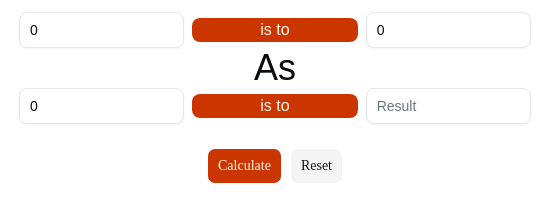
Test: RuleOfThree › onFormSubmit success › returns proportional result for a=1.5 b=3 c=10
Replace the text in the 1st field with placeholder "Value A" with "1.5": (102, 30) 19,12 -> 184,48
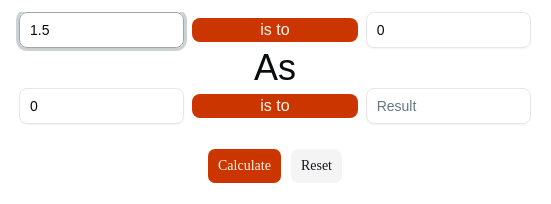
Replace the text in the 2nd field with placeholder "Value B" with "3": (448, 30) 366,12 -> 531,48
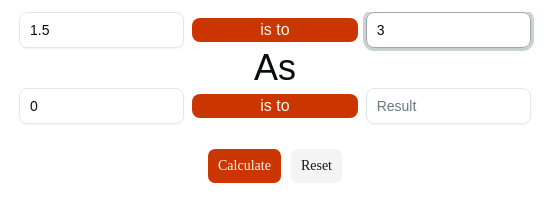
Replace the text in the 3rd field with placeholder "Value C" with "10": (102, 106) 19,88 -> 184,124
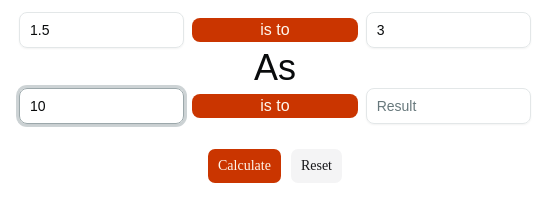
Click the button with aria-label "calculate rule of three": (244, 166) 207,148 -> 282,184
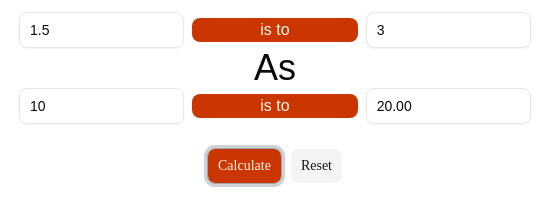
Expected: the 4th field with placeholder "Result" holds "20.00", 366,88 -> 531,124
